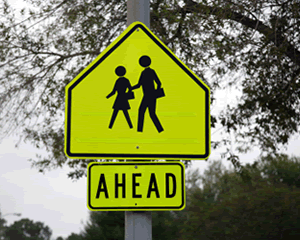slow: (61, 20, 211, 161)
